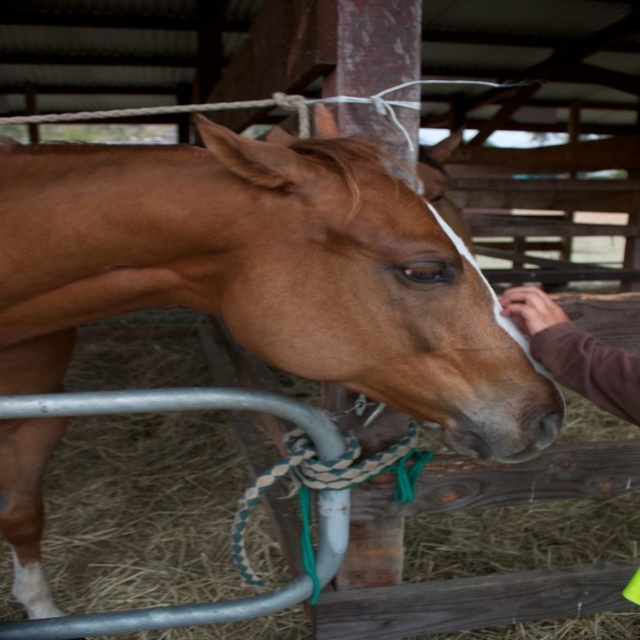Horse: (0, 108, 569, 620)
